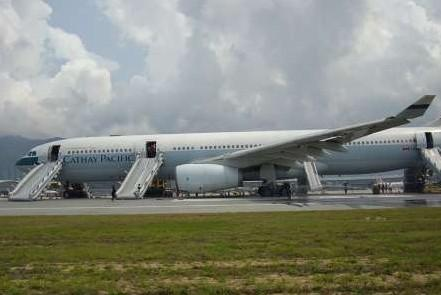airplane: (6, 94, 441, 204)
